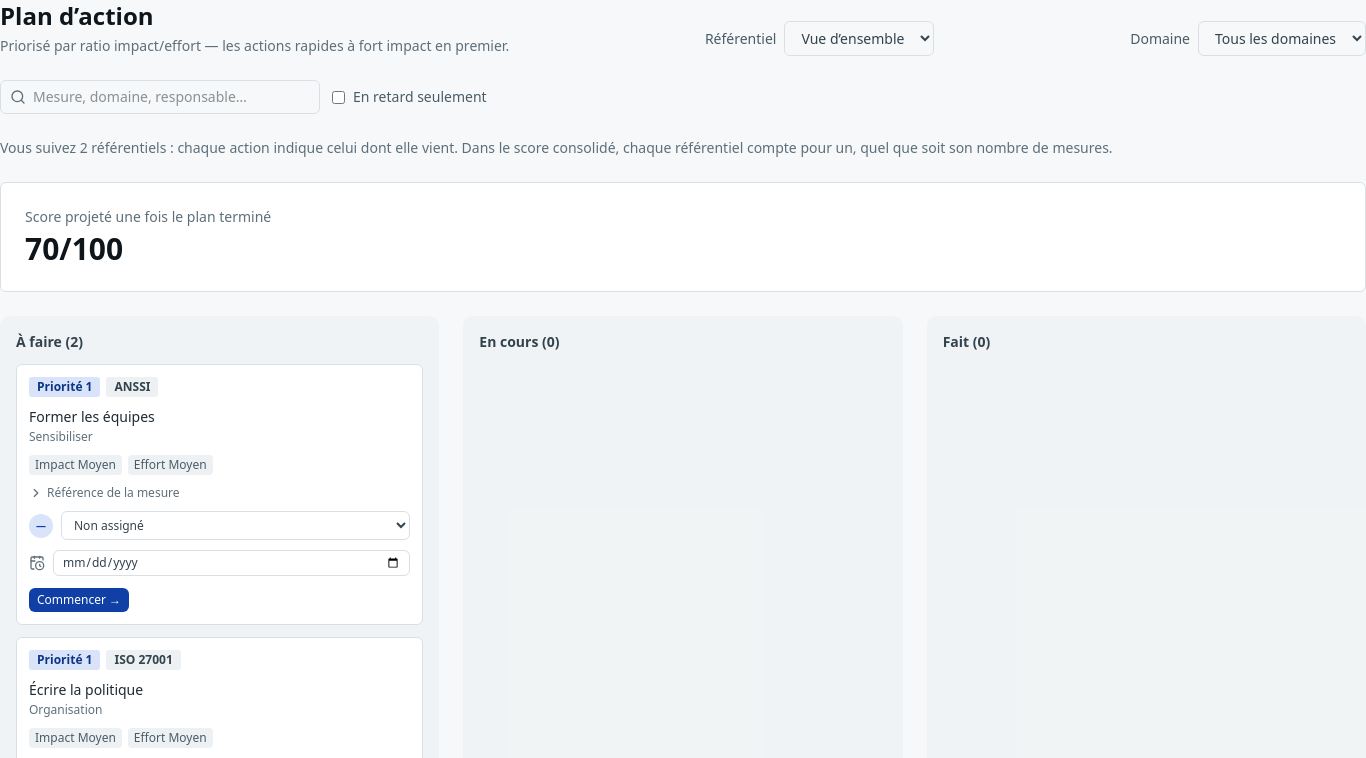
Test: ActionPlanPage — plusieurs référentiels › propose une vue par référentiel, et une vue d’ensemble
This screenshot has width=1366, height=758.
Expected: the text "Former les équipes" is shown, [29, 407, 155, 426]
Select "ISO 27001" in the dropdown labelled "Référentiel" at [860, 38], box [784, 21, 934, 56]
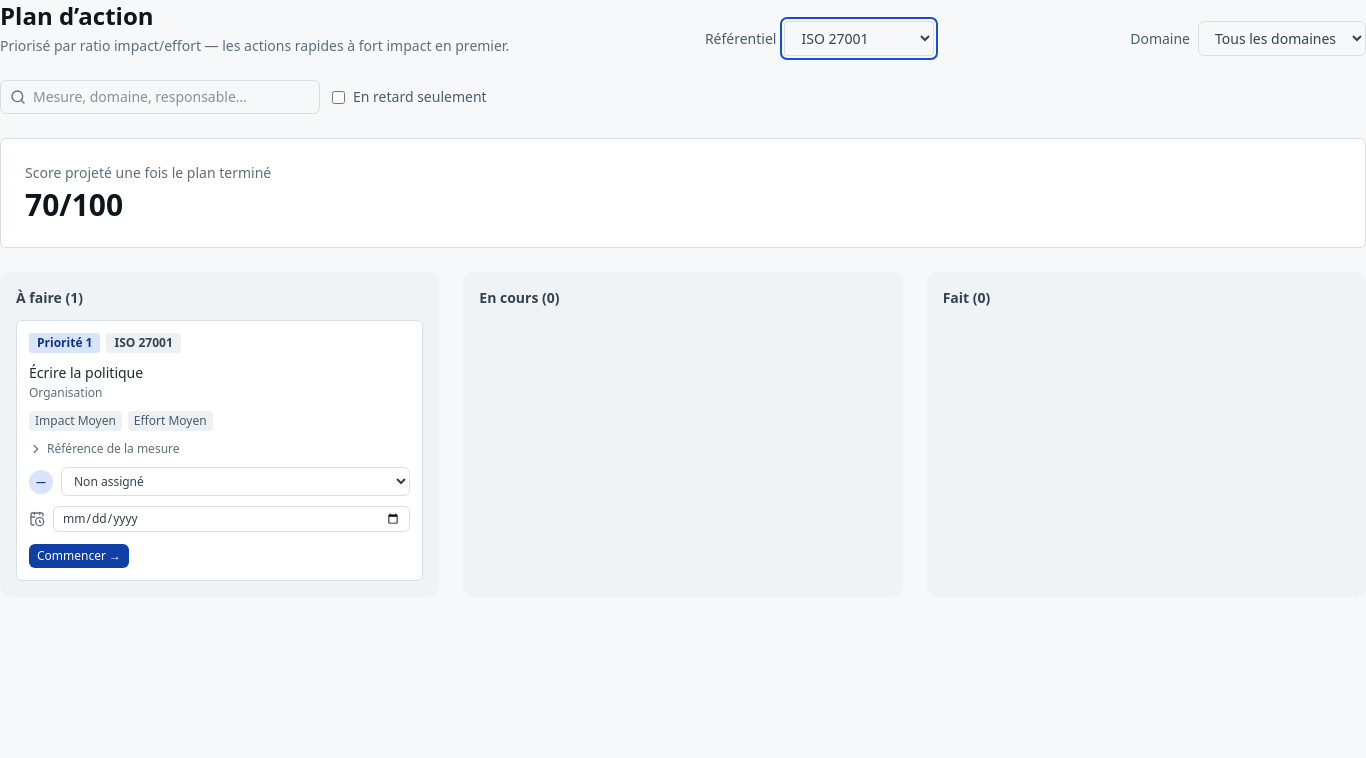
Expected: the text "Écrire la politique" is shown, [29, 363, 143, 382]
Expected: the text "Former les équipes" is gone
